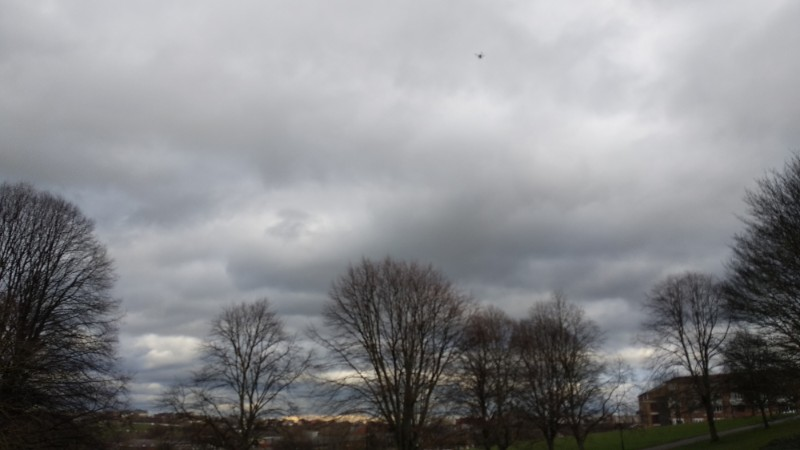drone: (476, 51, 486, 60)
